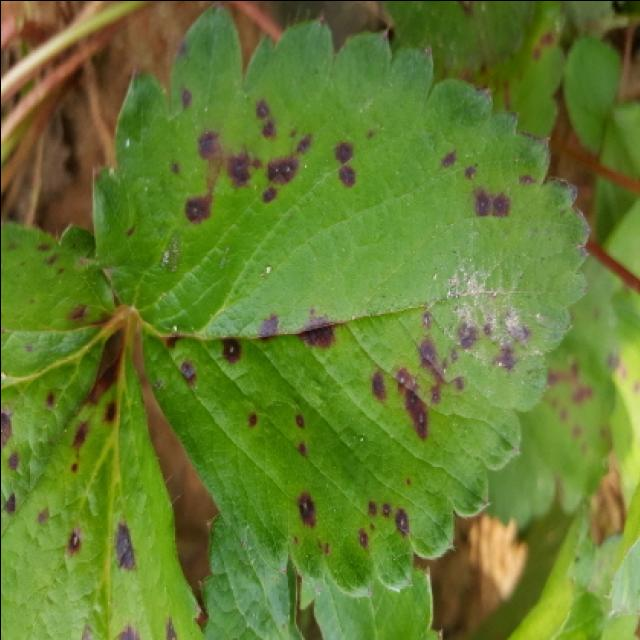Leaf Spot: (89, 2, 590, 598), (0, 335, 210, 640), (485, 255, 626, 529), (0, 221, 119, 536), (374, 2, 538, 88), (482, 2, 568, 135), (607, 283, 638, 487)
